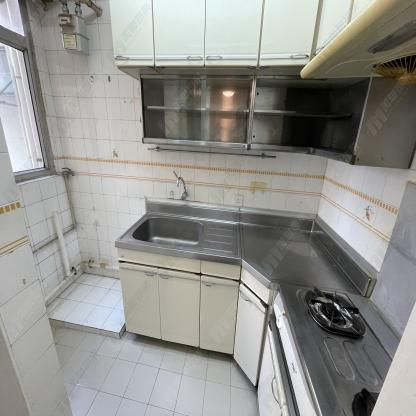Cupboard: (109, 0, 377, 163), (117, 245, 269, 387)
Exhaust Hood: (301, 0, 414, 83)
Faucet: (173, 172, 188, 203)
Sink: (120, 212, 241, 263)
Stove: (271, 282, 400, 416)
